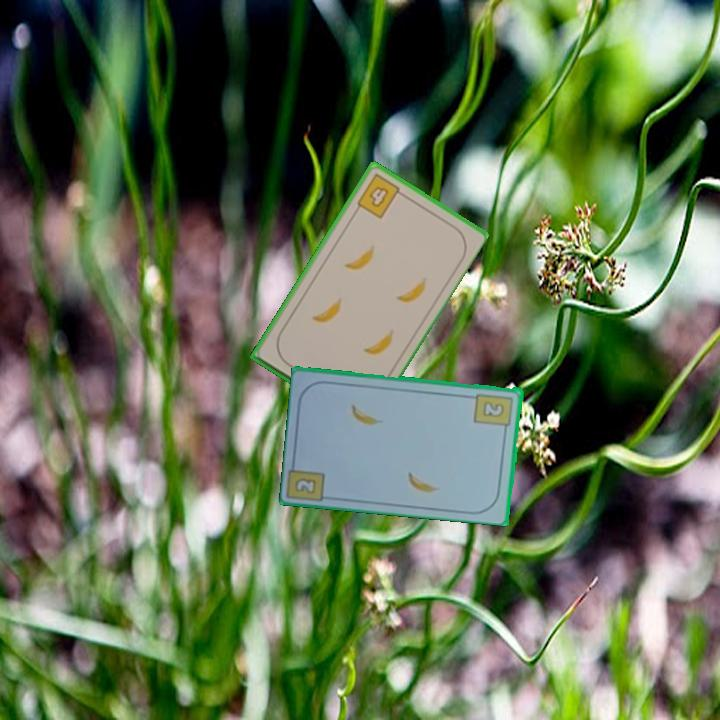2b: (472, 390, 516, 435), (291, 474, 319, 497)
4b: (353, 170, 407, 222)
